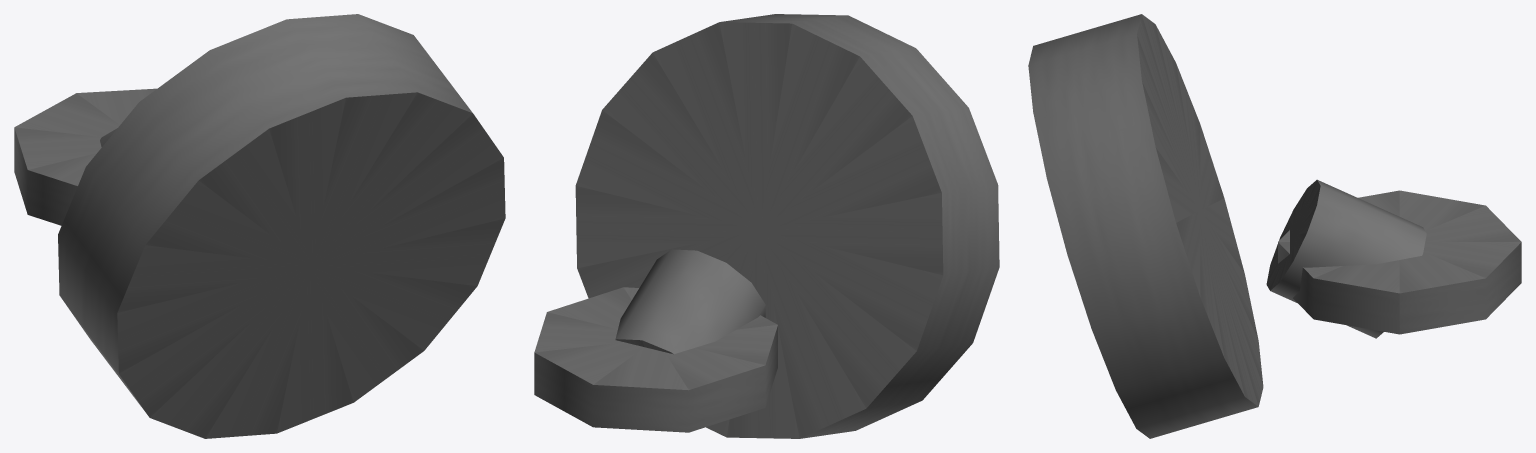
File: mastarmcurve_6x2_c4_up.obj
3 views of the same model, side by side, from view 1: azimuth 30°, elevation 25°; view 2: azimuth 150°, elevation 25°; view 3: azimuth 270°, elevation 25° (orthographic). The views are drawn at different scales.
Visible parts, largest first — view 1: mastarm_6x2_c4_up; view 2: mastarm_6x2_c4_up; view 3: mastarm_6x2_c4_up.
Boxes of the visible parts, x1,y1,x2,y2 form: mastarm_6x2_c4_up: (14,14,505,438); mastarm_6x2_c4_up: (534,14,999,438); mastarm_6x2_c4_up: (1028,14,1521,438).
Bounding box in the file's own units: 0.6733 × 0.6983 × 0.8096.
